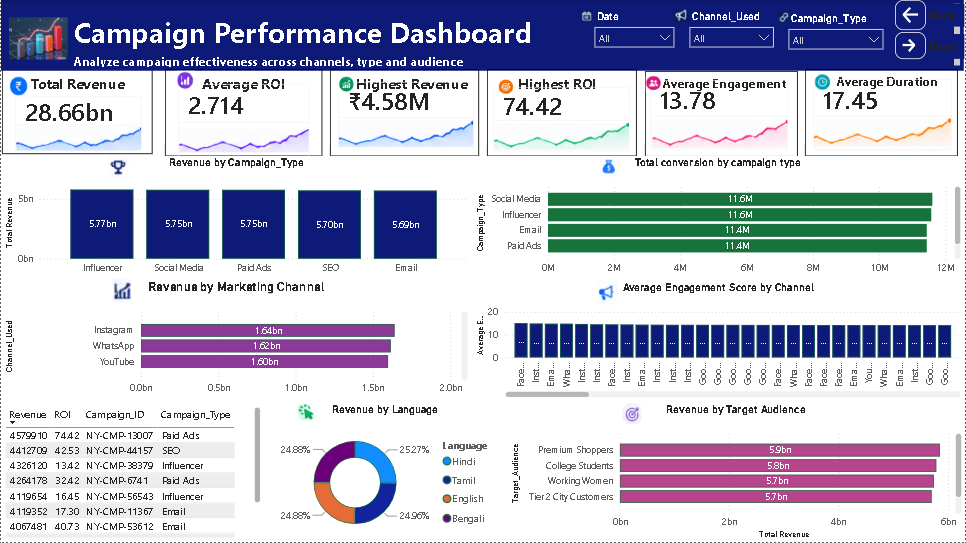

This screenshot's page, from the dashboard's own definition file:
{"tool":"powerbi","page":{"name":"Campaign Performance","canvas":[1280,720],"ordinal":1},"visuals":[{"type":"textbox","box":[0,93.6,203,112.3],"z":0},{"type":"textbox","box":[0,0,1278.9,94.4],"z":1000},{"type":"cardVisual","fields":{"Data":["marketing_campaign_cleaned.Total Revenue"]},"box":[10.1,97.9,193,109.4],"z":2000},{"type":"textbox","box":[203,95,209.3,115.6],"z":3000},{"type":"textbox","box":[411.8,92.2,214.6,115.2],"z":4000},{"type":"textbox","box":[830.9,93.6,223.2,113.8],"z":5000},{"type":"textbox","box":[1054.1,92.2,224.6,115.2],"z":6000},{"type":"textbox","box":[626.4,92.2,204.5,115.2],"z":7000},{"type":"cardVisual","fields":{"Data":["marketing_campaign_cleaned.Average ROI"]},"box":[216,99.4,204.5,108],"z":8000},{"type":"cardVisual","fields":{"Data":["marketing_campaign_cleaned.Highest Revenue"]},"box":[420.5,103.7,205.9,97.9],"z":9000},{"type":"cardVisual","fields":{"Data":["marketing_campaign_cleaned.Highest ROI"]},"box":[645.1,100.8,195.8,106.6],"z":10000},{"type":"cardVisual","fields":{"Data":["marketing_campaign_cleaned.Average Engagement"]},"box":[856.8,105.1,191.5,97.9],"z":11000},{"type":"cardVisual","fields":{"Data":["marketing_campaign_cleaned.Average Duration"]},"box":[1068.5,108,194.4,95],"z":12000},{"type":"clusteredBarChart","title":"Revenue by Marketing Channel","fields":{"Category":["marketing_campaign_cleaned.Channel_Used"],"Y":["marketing_campaign_cleaned.Total Revenue"]},"box":[0,367.2,625,162.7],"z":13000},{"type":"clusteredColumnChart","title":"Revenue by Campaign_Type","fields":{"Category":["marketing_campaign_cleaned.Campaign_Type"],"Y":["marketing_campaign_cleaned.Total Revenue"]},"box":[0,201.6,626.3,165.4],"z":14000},{"type":"clusteredBarChart","title":"Total conversion by campaign type","fields":{"Category":["marketing_campaign_cleaned.Campaign_Type"],"Y":["marketing_campaign_cleaned.Total Conversions"]},"box":[625,201.6,654.1,165.4],"z":15000},{"type":"donutChart","title":"Revenue by Language","fields":{"Category":["marketing_campaign_cleaned.Language"],"Y":["marketing_campaign_cleaned.Total Revenue"]},"box":[322.6,531.4,420.5,188.6],"z":16000},{"type":"tableEx","fields":{"Values":["marketing_campaign_cleaned.Revenue","marketing_campaign_cleaned.ROI","marketing_campaign_cleaned.Campaign_ID","marketing_campaign_cleaned.Campaign_Type"]},"box":[0,527,337,193],"z":17000},{"type":"slicer","fields":{"Values":["marketing_campaign_cleaned.Date"]},"box":[778.5,7.3,125.9,93.7],"z":18000},{"type":"slicer","fields":{"Values":["marketing_campaign_cleaned.Channel_Used"]},"box":[904.4,7.3,131.7,93.7],"z":19000},{"type":"slicer","fields":{"Values":["marketing_campaign_cleaned.Campaign_Type"]},"box":[1036.1,10.2,146.3,93.7],"z":20000},{"type":"actionButton","box":[1183.7,40.3,40.7,35.7],"z":21000},{"type":"textbox","box":[1228.8,45,51.4,32.9],"z":22000},{"type":"image","box":[10,7.8,78.3,86.7],"z":23000},{"type":"barChart","title":"Revenue by Target Audience","fields":{"Category":["marketing_campaign_cleaned.Target_Audience"],"Y":["marketing_campaign_cleaned.Total Revenue"]},"box":[743,527,537.1,193],"z":33000},{"type":"columnChart","title":"Average Engagement Score by Channel","fields":{"Category":["marketing_campaign_cleaned.Channel_Used"],"Y":["marketing_campaign_cleaned.Average Engagement"]},"box":[626.4,367.2,653.8,159.8],"z":34000},{"type":"actionButton","box":[1183.7,0,41.8,40.3],"z":41000},{"type":"textbox","box":[1228.3,0,51.2,30],"z":42000}]}

Visuals, with their boxes in screenshot pixels (x1, y1, x2, y2), scaled from the page's 1280x720 canvas onto the 966x543 screenshot:
textbox: (0,71,153,155)
textbox: (0,0,965,71)
cardVisual - marketing_campaign_cleaned.Total Revenue: (8,74,153,156)
textbox: (153,72,311,159)
textbox: (311,70,473,156)
textbox: (627,71,796,156)
textbox: (796,70,965,156)
textbox: (473,70,627,156)
cardVisual - marketing_campaign_cleaned.Average ROI: (163,75,317,156)
cardVisual - marketing_campaign_cleaned.Highest Revenue: (317,78,473,152)
cardVisual - marketing_campaign_cleaned.Highest ROI: (487,76,635,156)
cardVisual - marketing_campaign_cleaned.Average Engagement: (647,79,791,153)
cardVisual - marketing_campaign_cleaned.Average Duration: (806,81,953,153)
"Revenue by Marketing Channel" clusteredBarChart: (0,277,472,400)
"Revenue by Campaign_Type" clusteredColumnChart: (0,152,473,277)
"Total conversion by campaign type" clusteredBarChart: (472,152,965,277)
"Revenue by Language" donutChart: (243,401,561,542)
tableEx - marketing_campaign_cleaned.Revenue x marketing_campaign_cleaned.ROI: (0,397,254,542)
slicer - marketing_campaign_cleaned.Date: (588,6,683,76)
slicer - marketing_campaign_cleaned.Channel_Used: (683,6,782,76)
slicer - marketing_campaign_cleaned.Campaign_Type: (782,8,892,78)
actionButton: (893,30,924,57)
textbox: (927,34,965,59)
image: (8,6,67,71)
"Revenue by Target Audience" barChart: (561,397,965,542)
"Average Engagement Score by Channel" columnChart: (473,277,965,397)
actionButton: (893,0,925,30)
textbox: (927,0,965,23)
